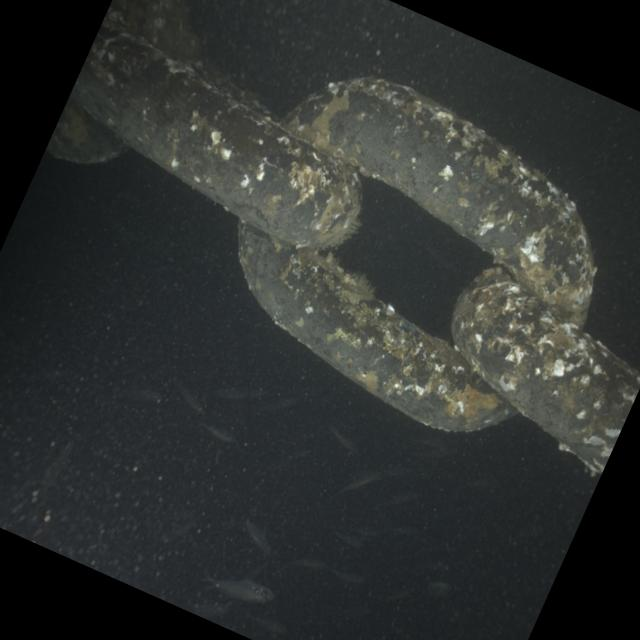ChainLink: (285, 77, 595, 328), (70, 21, 360, 248), (238, 222, 516, 431), (452, 267, 640, 473), (106, 0, 200, 61), (46, 97, 129, 163), (46, 99, 128, 164)
